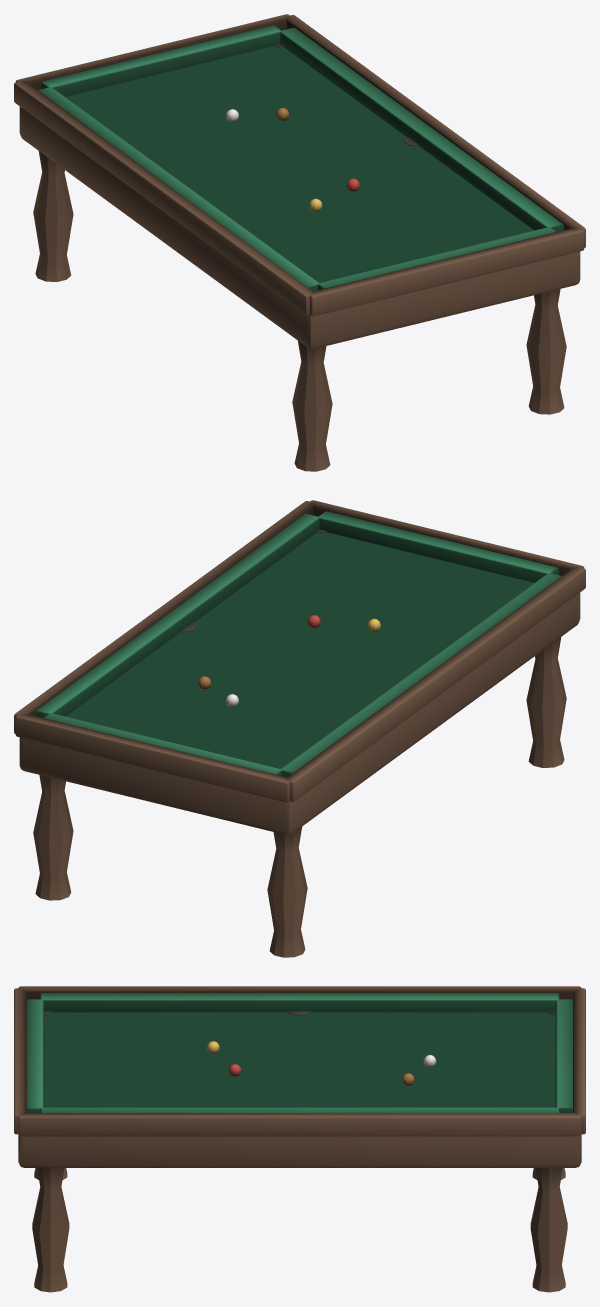
File: pooltable.glb
3 renders of one model, top to bottom at view 1: azimuth 30°, elevation 25°; view 2: azimuth 150°, elevation 25°; view 3: azimuth 270°, elevation 25°, orthographic. The views are drawn at different scales.
Visible parts, largest first — view 1: boat_green_felt, boat_darkwood; view 2: boat_green_felt, boat_darkwood; view 3: boat_green_felt, boat_darkwood.
Boxes of the visible parts, bbox=[...] form: boat_green_felt: bbox=[38, 25, 563, 291]; boat_darkwood: bbox=[14, 14, 585, 471]; boat_green_felt: bbox=[36, 511, 561, 777]; boat_darkwood: bbox=[14, 500, 585, 957]; boat_green_felt: bbox=[27, 993, 572, 1112]; boat_darkwood: bbox=[14, 986, 585, 1292].
Bounding box in the file's own units: 1.44 × 0.91 × 2.64.
